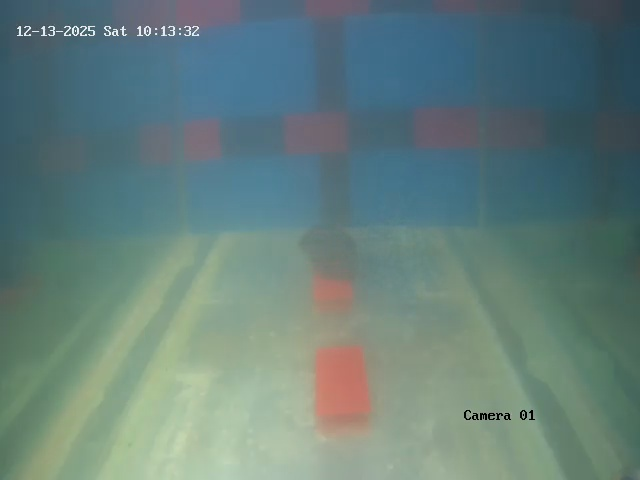fish: (295, 225, 378, 274)
